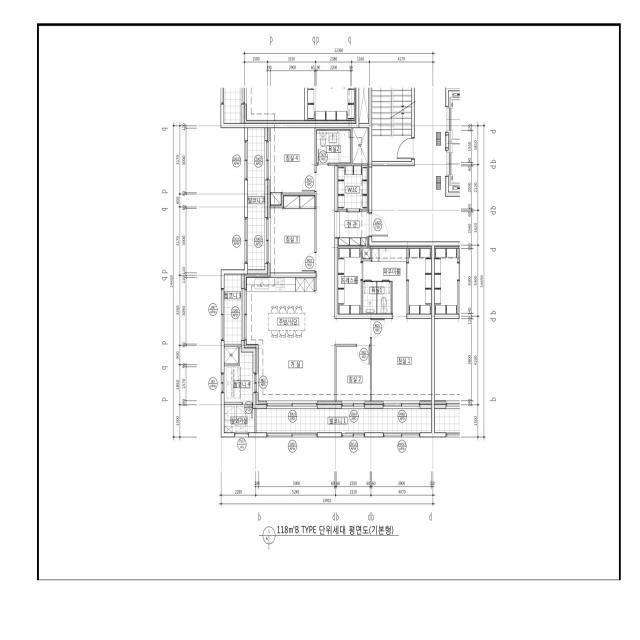space_balconi: (256, 409, 431, 433), (248, 128, 265, 270), (224, 347, 253, 402), (224, 274, 241, 344)
space_bedroom: (372, 319, 431, 404), (267, 196, 315, 273), (268, 128, 315, 205), (337, 347, 370, 404)
space_dressroom: (338, 249, 361, 314)
space_elevator: (448, 91, 460, 142), (448, 141, 460, 192)
space_elevator_hall: (372, 87, 460, 242)
space_front: (338, 212, 369, 245)
space_kitchen: (244, 278, 317, 344)
space_living_room: (256, 166, 370, 404)
space_other: (363, 248, 407, 314), (408, 249, 431, 314), (338, 166, 367, 209), (353, 128, 368, 164), (224, 347, 238, 364), (363, 248, 370, 259)
space_outdoor_room: (224, 405, 254, 433)
space_staircase: (372, 88, 411, 162)
space_toilet: (316, 130, 351, 163), (362, 282, 391, 314)
